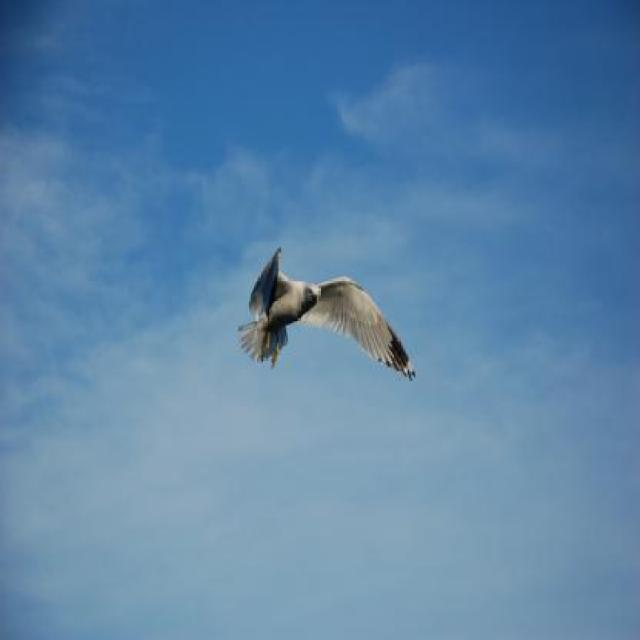bird: (239, 245, 416, 382)
